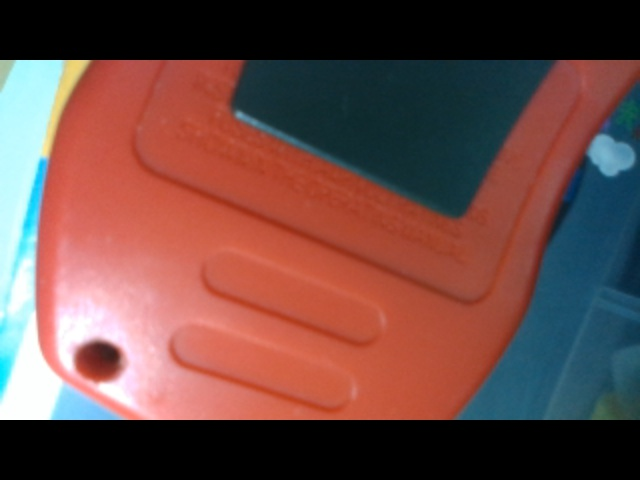Screw holes: (70, 330, 134, 388)
